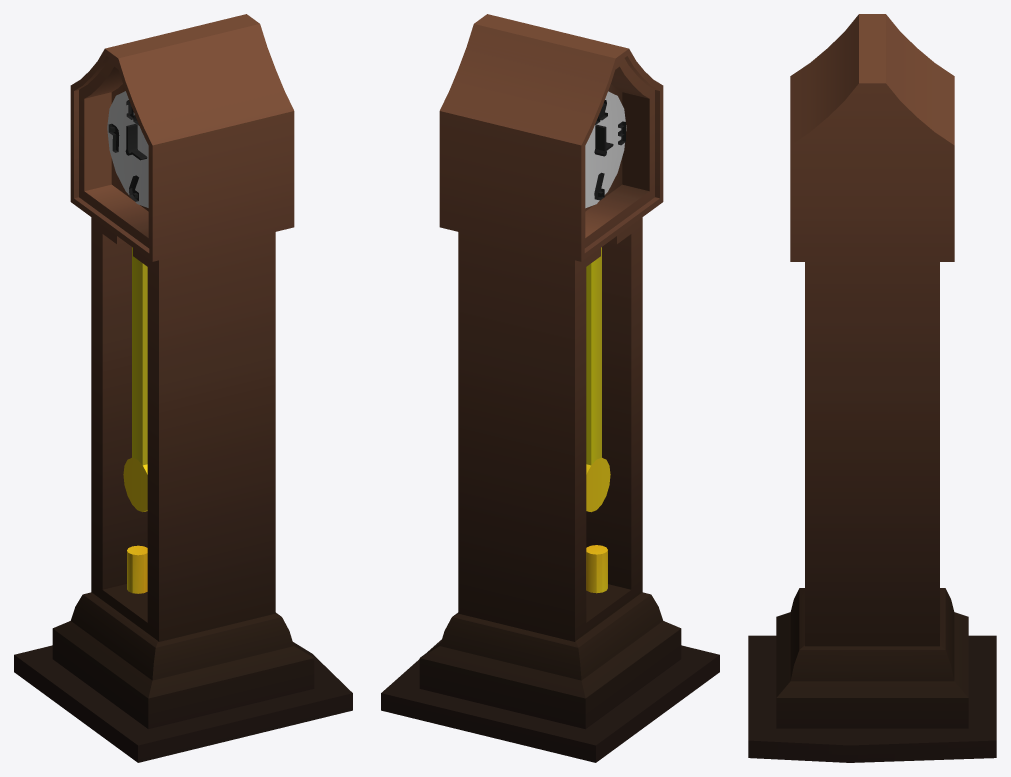
File: SM_clock.fbx
3 renders of one model, left to right at view 1: azimuth 30°, elevation 25°; view 2: azimuth 150°, elevation 25°; view 3: azimuth 270°, elevation 25°, orthographic.
Visible parts, largest first — view 1: SM_clock; view 2: SM_clock; view 3: SM_clock.
Boxes of the visible parts, left/top/right/bottom form: SM_clock: left=14, top=14, right=352, bottom=762; SM_clock: left=381, top=14, right=719, bottom=762; SM_clock: left=748, top=14, right=996, bottom=762.
Size of the model in its own units: 87.13 by 243 by 83.23.
